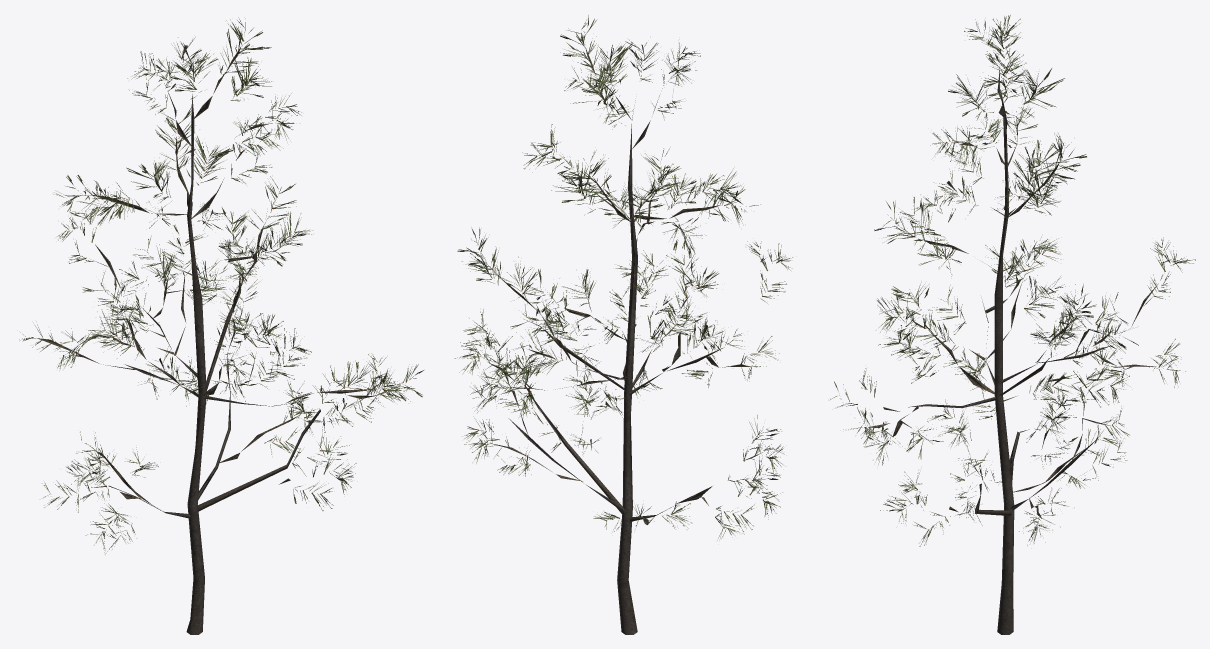
The model's file is pine-sapling-small.glb.
The picture shows the model from 3 angles, left to right: view 1: azimuth 30°, elevation 25°; view 2: azimuth 150°, elevation 25°; view 3: azimuth 270°, elevation 25°; orthographic projection.
Parts seen in each view (by area): view 1: pine_sapling_small_a; view 2: pine_sapling_small_a; view 3: pine_sapling_small_a.
Boxes of the visible parts, x1,y1,x2,y2 form: pine_sapling_small_a: (19, 17, 423, 634); pine_sapling_small_a: (454, 15, 792, 634); pine_sapling_small_a: (829, 15, 1195, 634).
Size of the model in its own units: 0.769 by 1.3 by 0.7194.
Materials: 1 (1 with a texture image).
